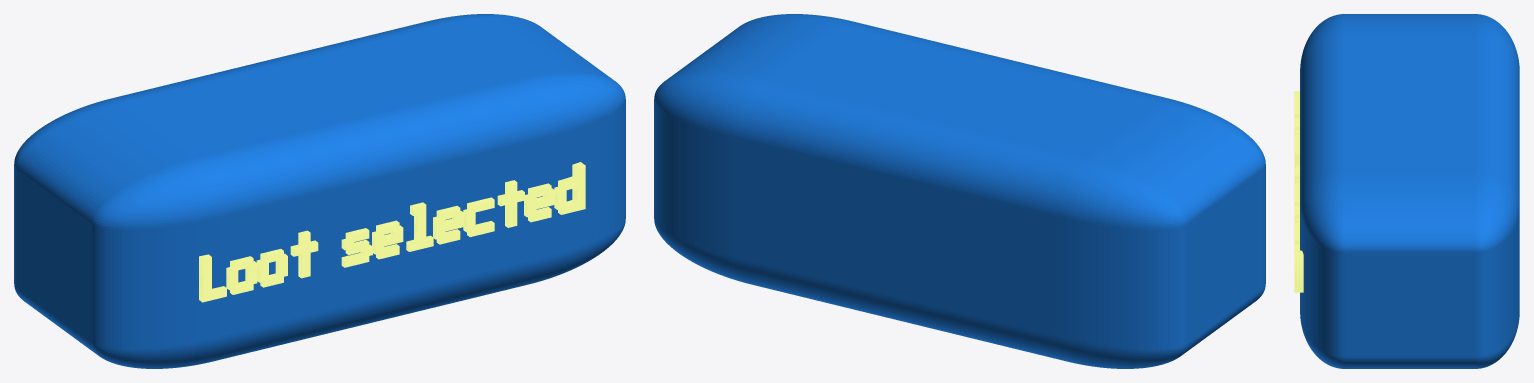
Rendered from buttonLoot-selected.gltf.
3 views of the same model, side by side, from view 1: azimuth 30°, elevation 25°; view 2: azimuth 150°, elevation 25°; view 3: azimuth 270°, elevation 25° (orthographic). The views are drawn at different scales.
Parts seen in each view (by area): view 1: button_loot-selected, button-loot-selected-text; view 2: button_loot-selected; view 3: button_loot-selected, button-loot-selected-text.
Part boxes in pixels (x1,y1,x2,y2): button_loot-selected: (14,14,625,368); button-loot-selected-text: (199,162,585,302); button_loot-selected: (654,14,1265,368); button_loot-selected: (1300,14,1519,368); button-loot-selected-text: (1294,91,1303,292).
Size of the model in its own units: 0.5407 by 0.1955 by 0.2277.
